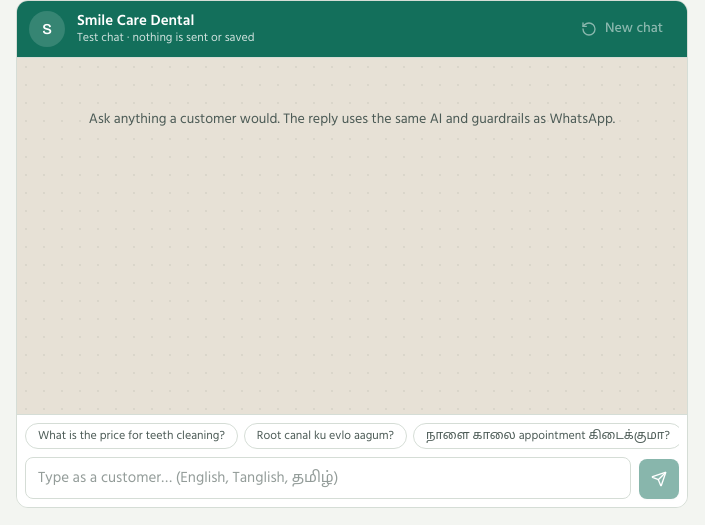
Test: TestBotTab › shows lead and handoff chips from the reply
The image size is (705, 525).
Click the button "What is the price for teeth cleaning?" at (131, 436), box [25, 423, 238, 449]
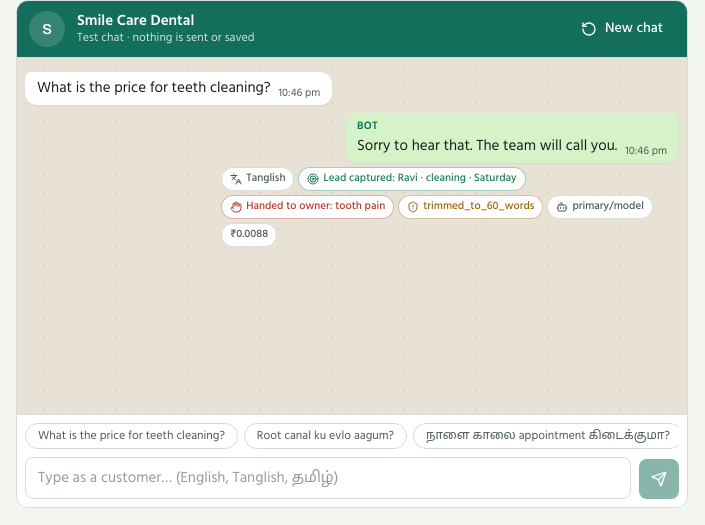
Expected: the text "Sorry to hear that. The team will call you." is shown, [357, 134, 617, 158]
Expected: the text "Lead captured: Ravi · cleaning · Saturday" is shown, [298, 167, 526, 191]
Expected: the text "Handed to owner: tooth pain" is shown, [221, 195, 394, 219]
